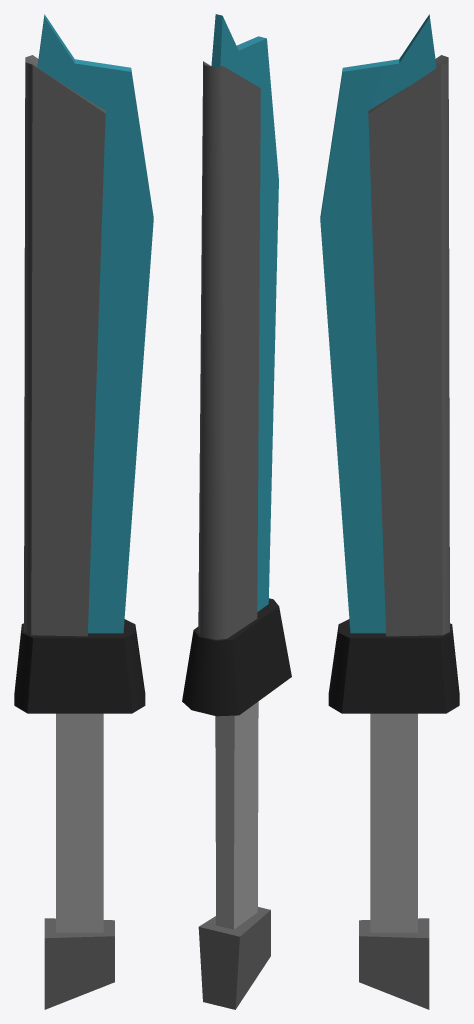
The model's file is Broken_Sword.fbx.
The picture shows the model from 3 angles, left to right: view 1: azimuth 90°, elevation 25°; view 2: azimuth 150°, elevation 25°; view 3: azimuth 270°, elevation 25°; orthographic projection.
Visible parts, largest first — view 1: Sword1; view 2: Sword1; view 3: Sword1.
Part boxes in pixels (bbox=[...]): Sword1: bbox=[14, 14, 153, 1009]; Sword1: bbox=[182, 14, 291, 1009]; Sword1: bbox=[320, 14, 459, 1009].
Bounding box in the file's own units: 0.2519 × 4.16 × 0.5316.
